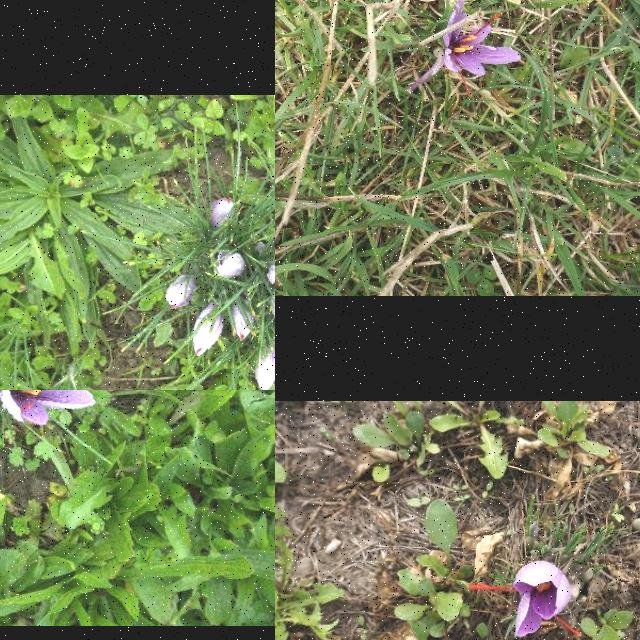flower: (468, 559, 582, 639), (446, 1, 520, 76), (1, 390, 95, 426), (192, 304, 224, 358), (164, 274, 196, 310), (210, 250, 246, 280), (230, 300, 254, 342), (254, 345, 275, 390), (210, 196, 234, 232), (270, 324, 275, 356)
